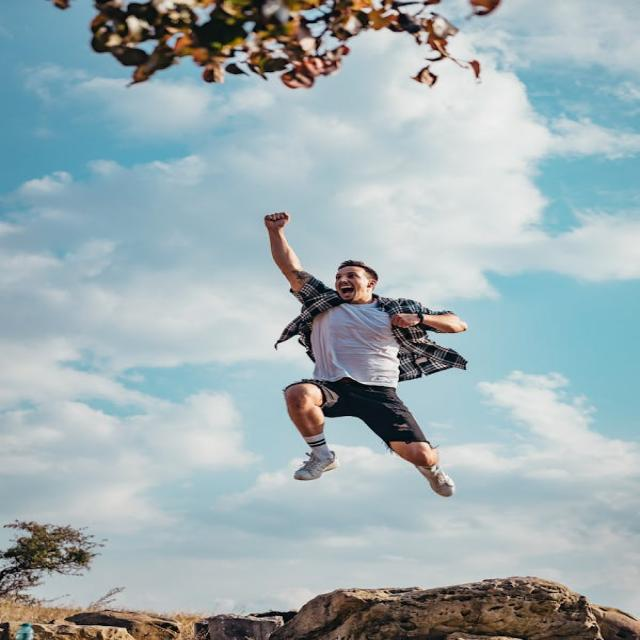Real human 2: (239, 194, 507, 520)
